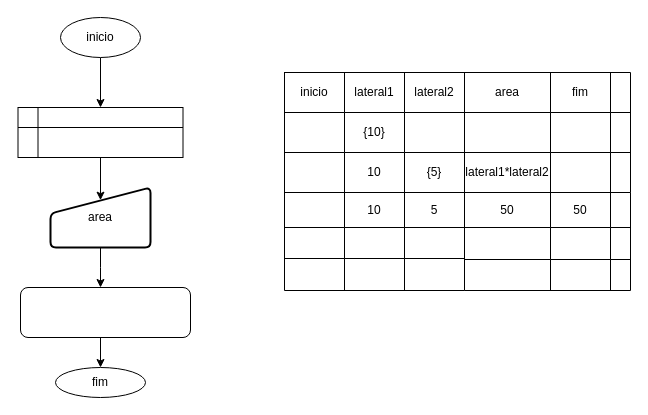
This 648x415 diagram has some shape labels left out. The centre of each missing label's shape, as x and y in pixels:
"area= lateral1*lateral2" goes at [105,312].
"lateral1 , lateral2, area" goes at [100,132].
